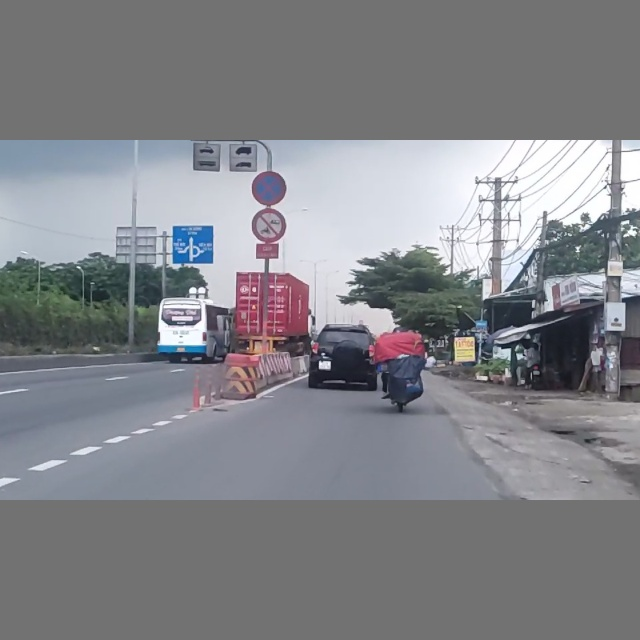P.111: (251, 208, 287, 242)
P.130: (251, 171, 288, 206)
